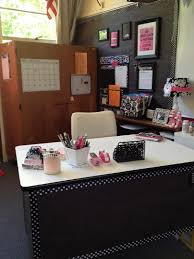desk: (6, 123, 192, 250)
